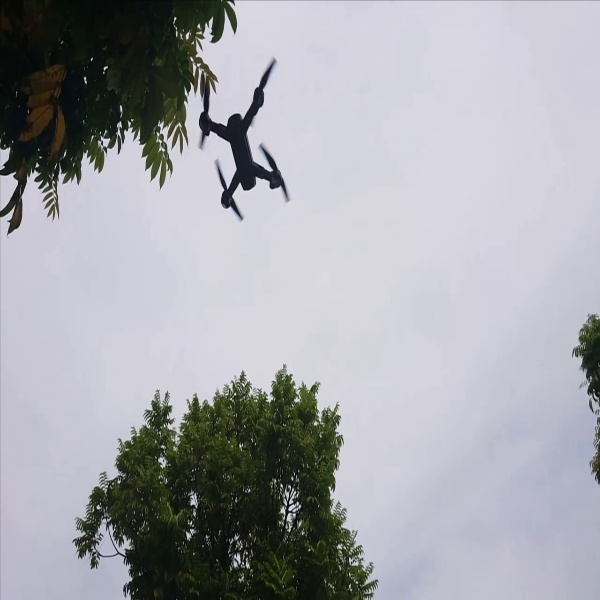drone: (192, 54, 302, 227)
